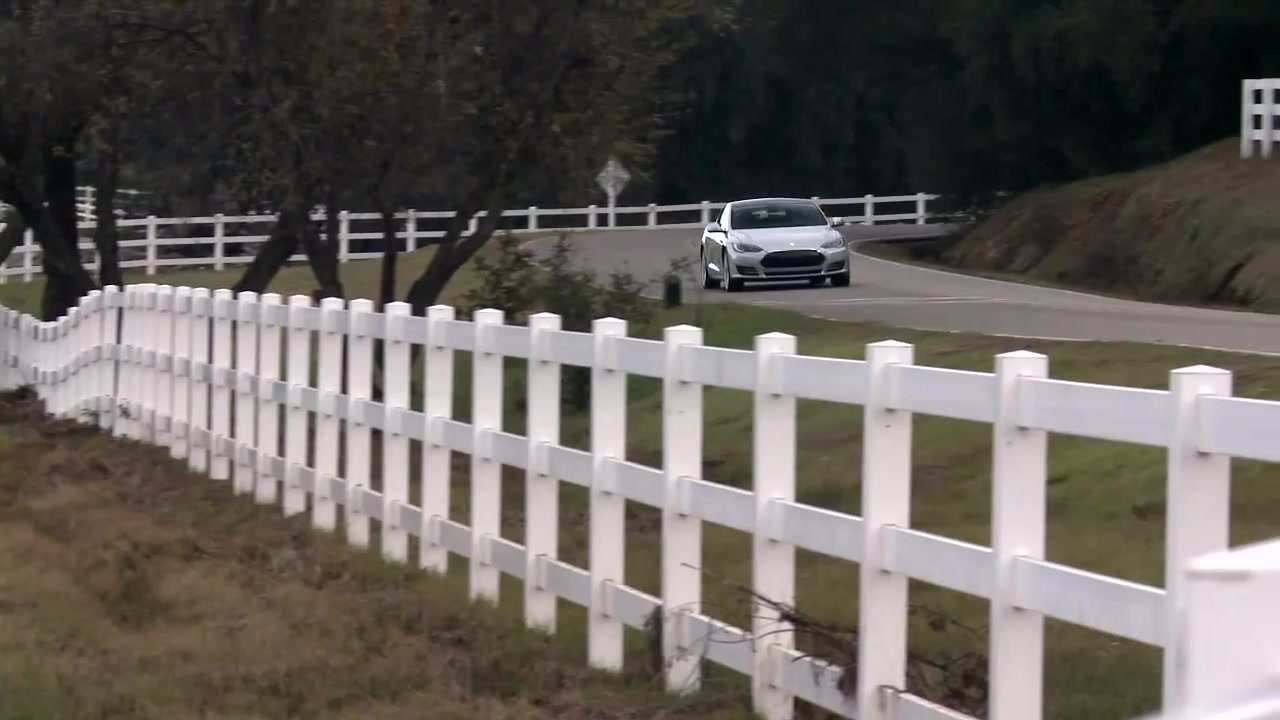car: (699, 195, 853, 295)
